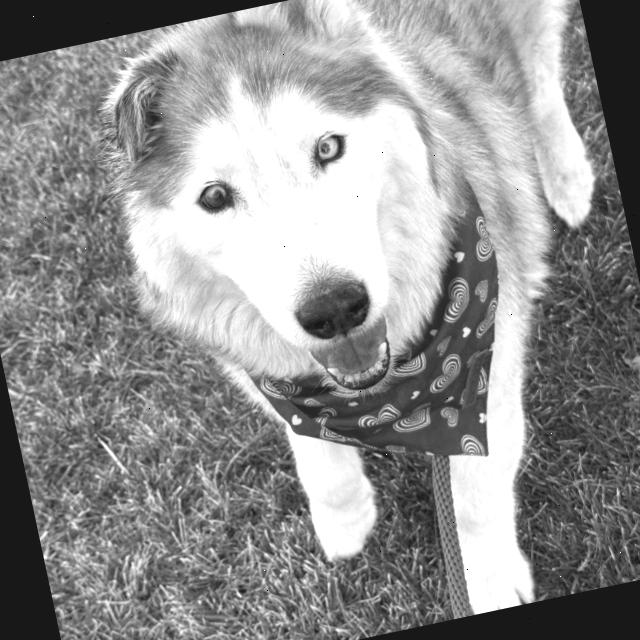siberian_husky_dog: (50, 0, 513, 463)
